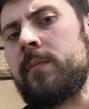without_mask: (1, 2, 89, 109)
